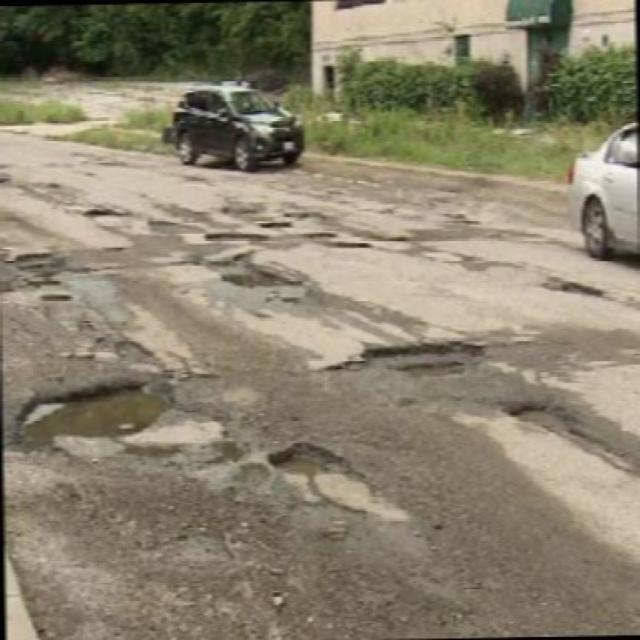Pothole: (1, 355, 181, 469), (502, 395, 640, 506), (261, 435, 397, 529), (330, 328, 502, 392), (210, 246, 299, 319), (0, 241, 86, 311), (541, 266, 624, 320), (297, 228, 378, 254), (203, 229, 276, 253), (447, 210, 484, 232), (258, 213, 298, 230), (81, 207, 123, 220)
